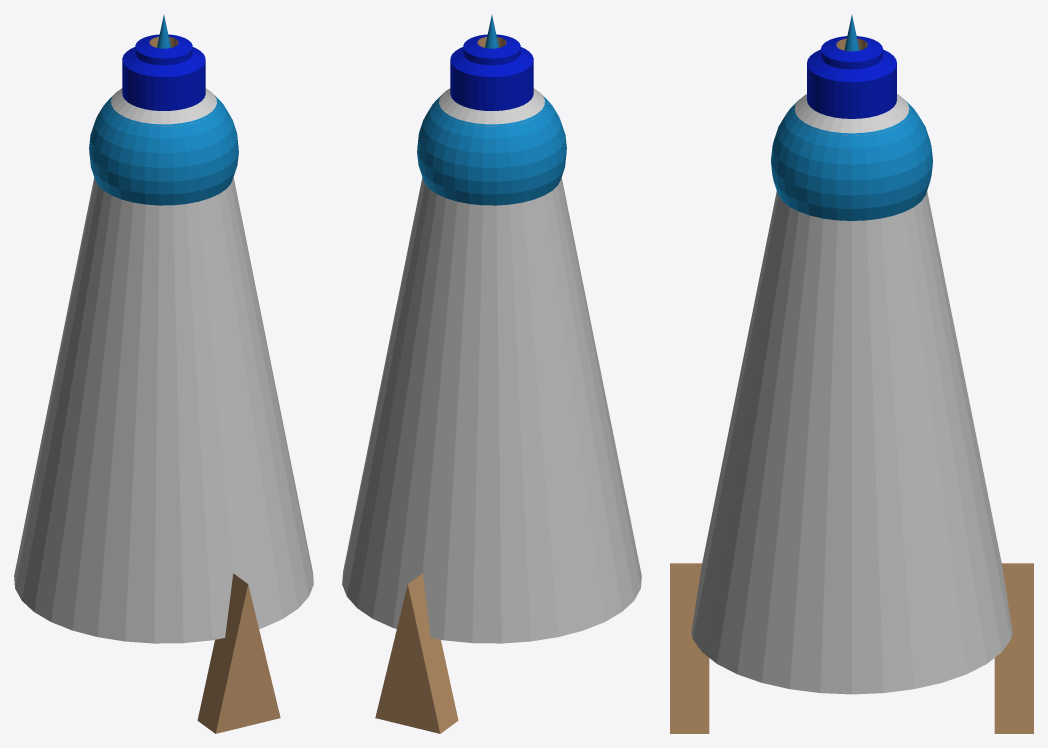
The model's file is RocketInAction.obj.
The picture shows the model from 3 angles, left to right: view 1: azimuth 30°, elevation 25°; view 2: azimuth 150°, elevation 25°; view 3: azimuth 270°, elevation 25°; orthographic projection. The views are drawn at different scales.
Visible parts, largest first — view 1: Cylinder; view 2: Cylinder; view 3: Cylinder.
Boxes of the visible parts, bbox=[...] form: Cylinder: bbox=[14, 15, 313, 733]; Cylinder: bbox=[342, 15, 641, 733]; Cylinder: bbox=[670, 15, 1033, 733].
Size of the model in its own units: 2 by 4.78 by 2.24.
